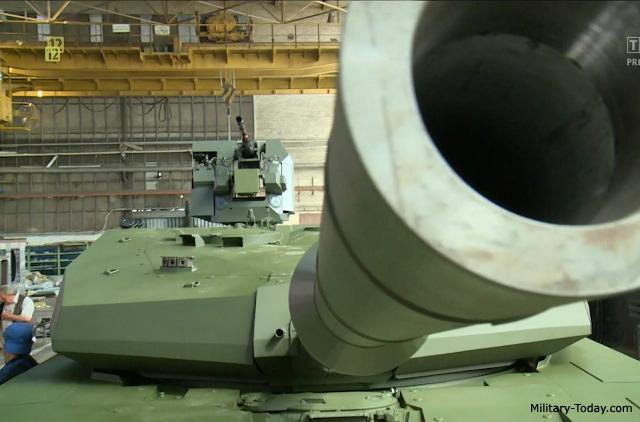tank: (1, 140, 640, 420)
